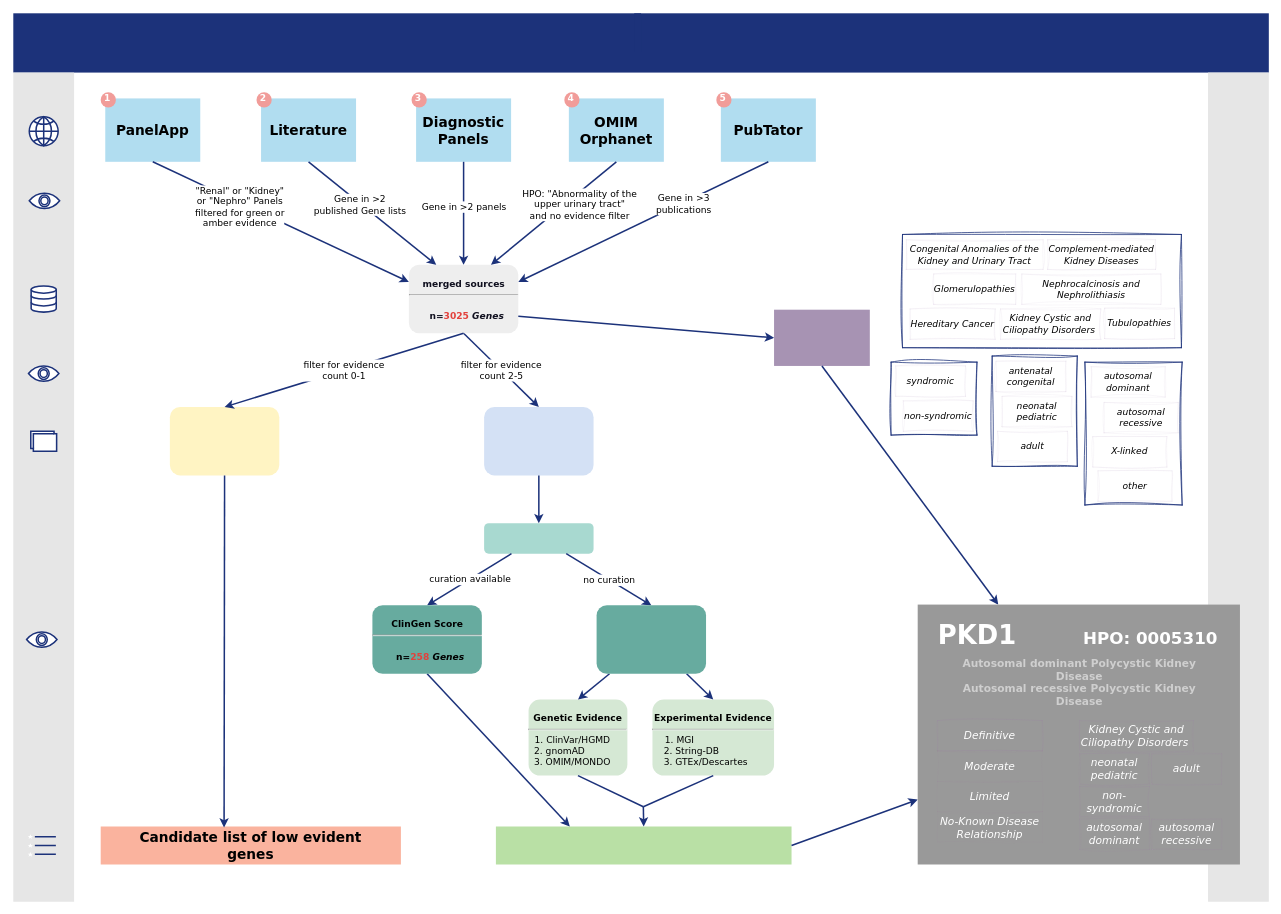
Some shapes in this 1281 by 914 pixel diagram are drawn without their labels. The centre of each missing label's shape, as x and y in pixels:
Curated list of high evident genes: [643,845]
Grouping: [821,337]
high evidence n= 598 Genes: [538,441]
Kidney Genetics: [640,42]
low evidence n= 2427 Genes: [224,441]
manual gene curation: [538,538]
Manual Scoring n= 340 Genes: [651,639]
